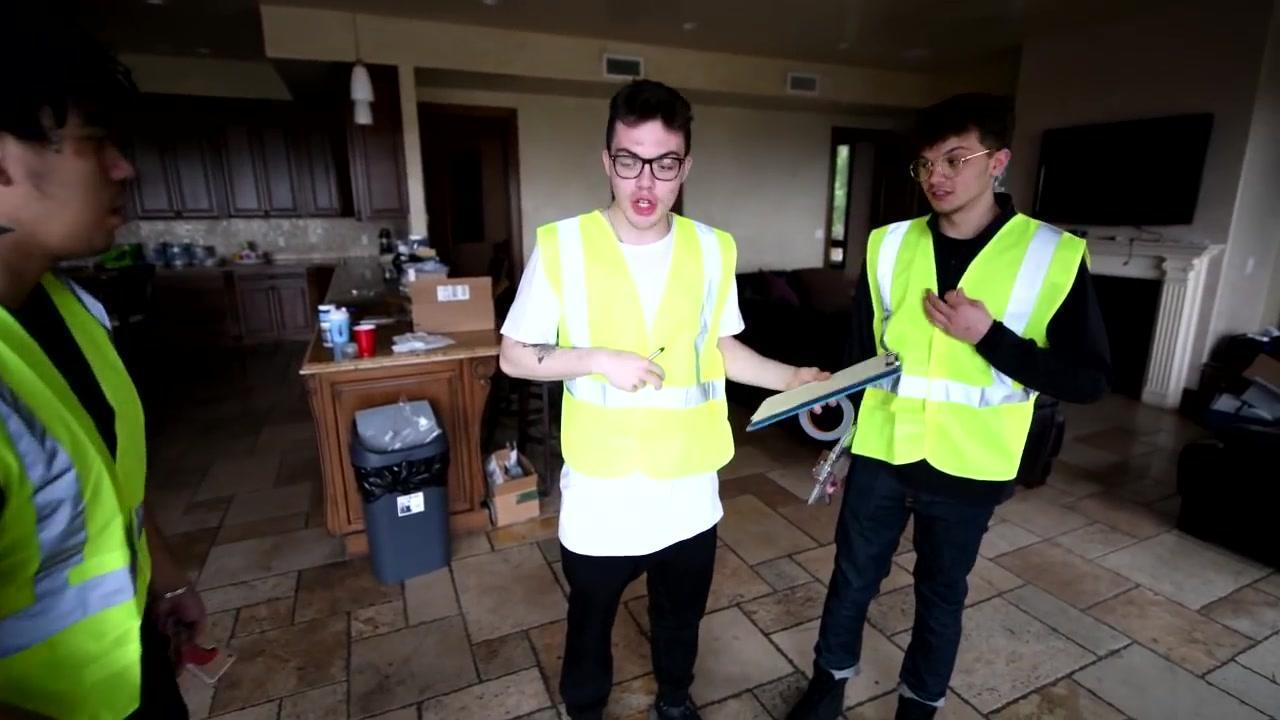vest: (1, 269, 159, 716), (842, 212, 1090, 482), (532, 210, 742, 483)
